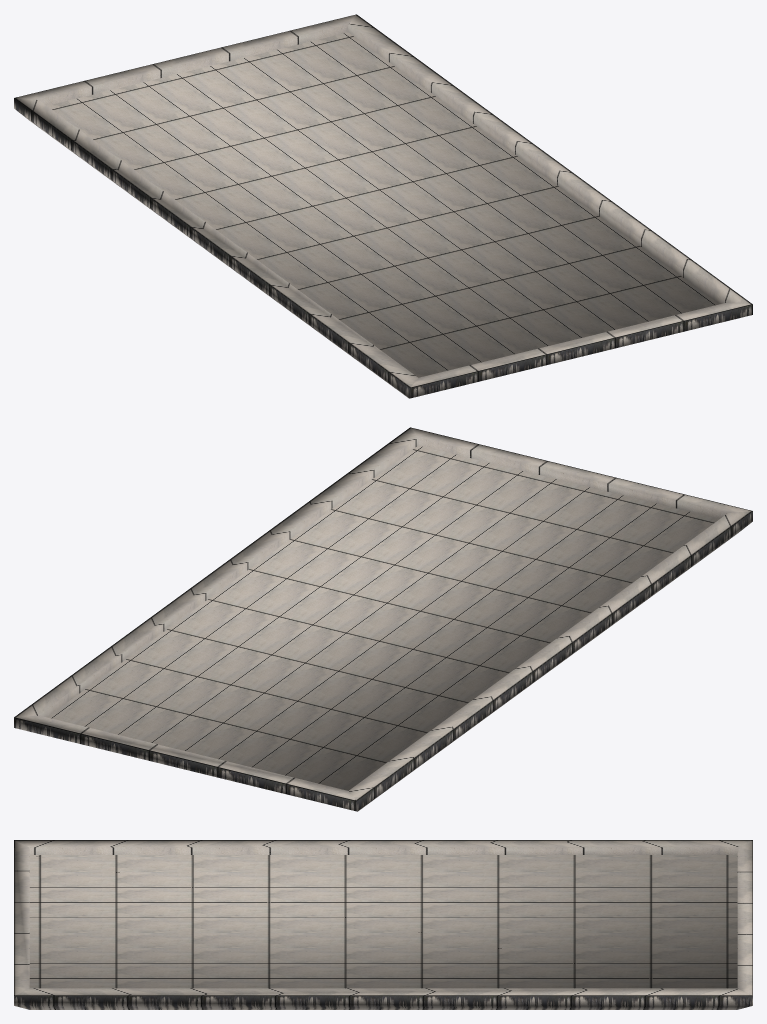
File: ceiling.obj
The picture shows the model from 3 angles, top to bottom: view 1: azimuth 30°, elevation 25°; view 2: azimuth 150°, elevation 25°; view 3: azimuth 270°, elevation 25°; orthographic projection. The views are drawn at different scales.
Visible parts, largest first — view 1: teto_Plane.023_teto, teto_Plane.023_concreto_sujo; view 2: teto_Plane.023_teto, teto_Plane.023_concreto_sujo; view 3: teto_Plane.023_teto, teto_Plane.023_concreto_sujo.
Part boxes in pixels (x1,y1,x2,y2): teto_Plane.023_teto: (47,32,719,377); teto_Plane.023_concreto_sujo: (14,14,752,398); teto_Plane.023_teto: (47,445,719,790); teto_Plane.023_concreto_sujo: (14,427,752,811); teto_Plane.023_teto: (29,855,737,988); teto_Plane.023_concreto_sujo: (14,840,752,1009).
Bounding box in the file's own units: 12.49 × 0.6446 × 25.
